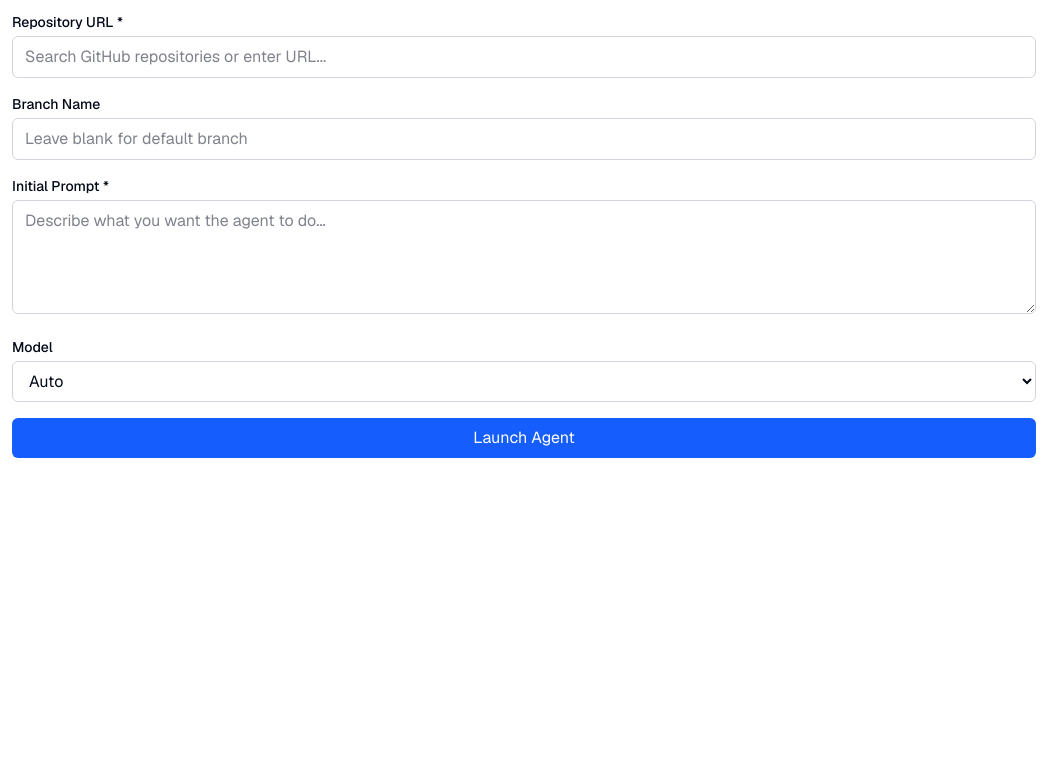
LaunchAgentForm › should show error when API key is missing
Type "https://github.com/user/repo" into the field labelled "Repository URL *".
click(524, 57); type("https://github.com/user/repo")  # box [12,36,1036,78]
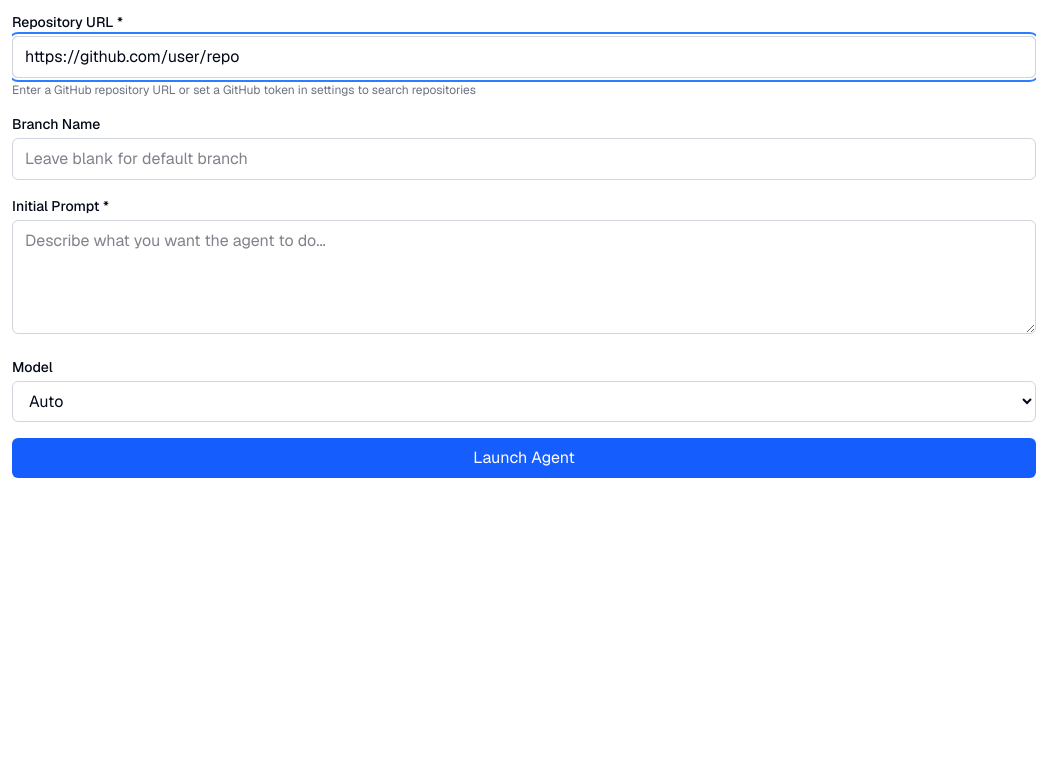
Type "Test prompt" into the text box labelled "Initial Prompt *".
click(524, 277); type("Test prompt")  # box [12,220,1036,334]
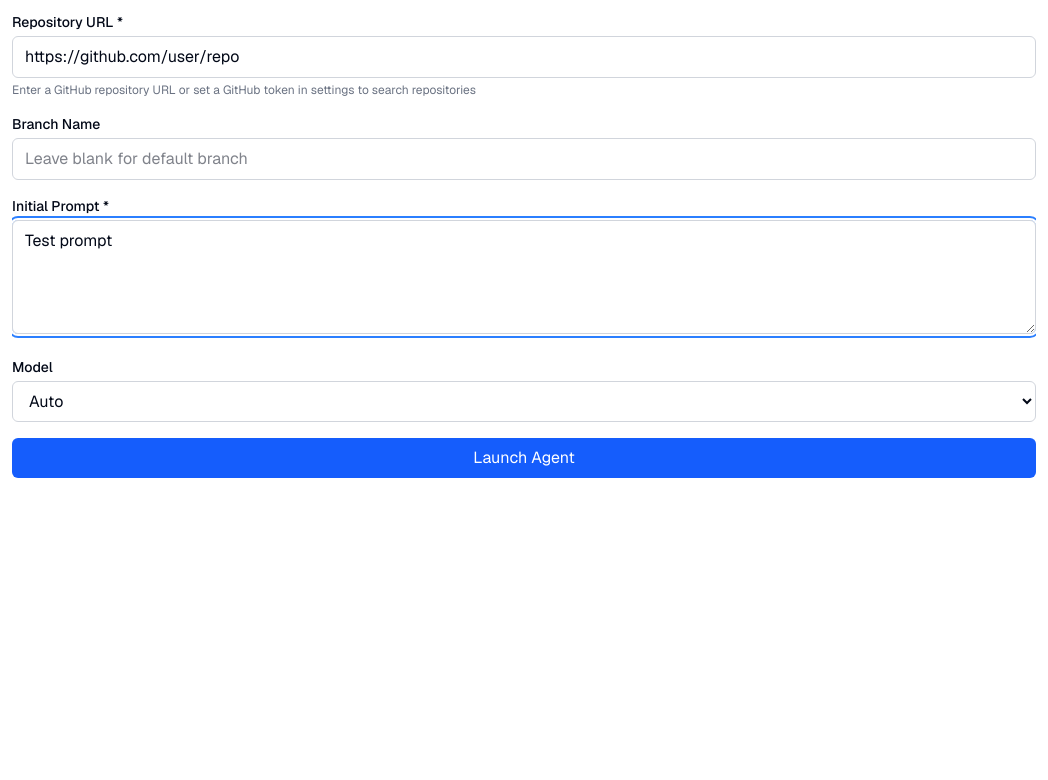
Click the button "Launch Agent".
click(524, 458)  # box [12,438,1036,478]
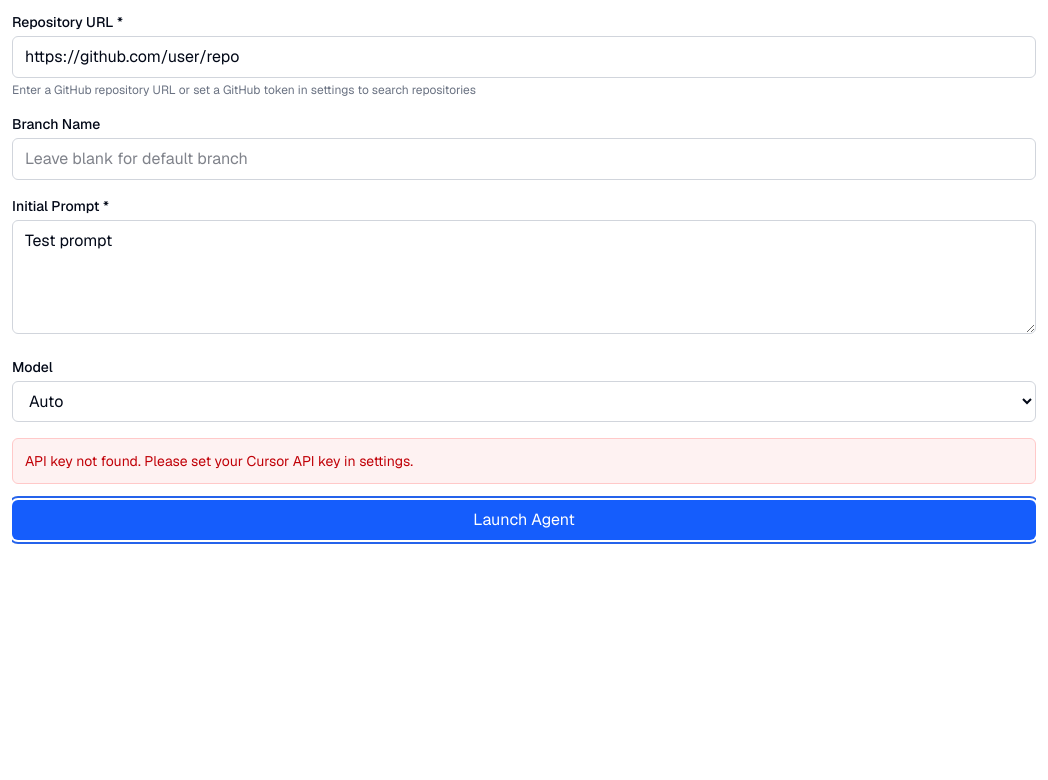
Result: the text "API key not found" is shown at [25,452,413,470]
